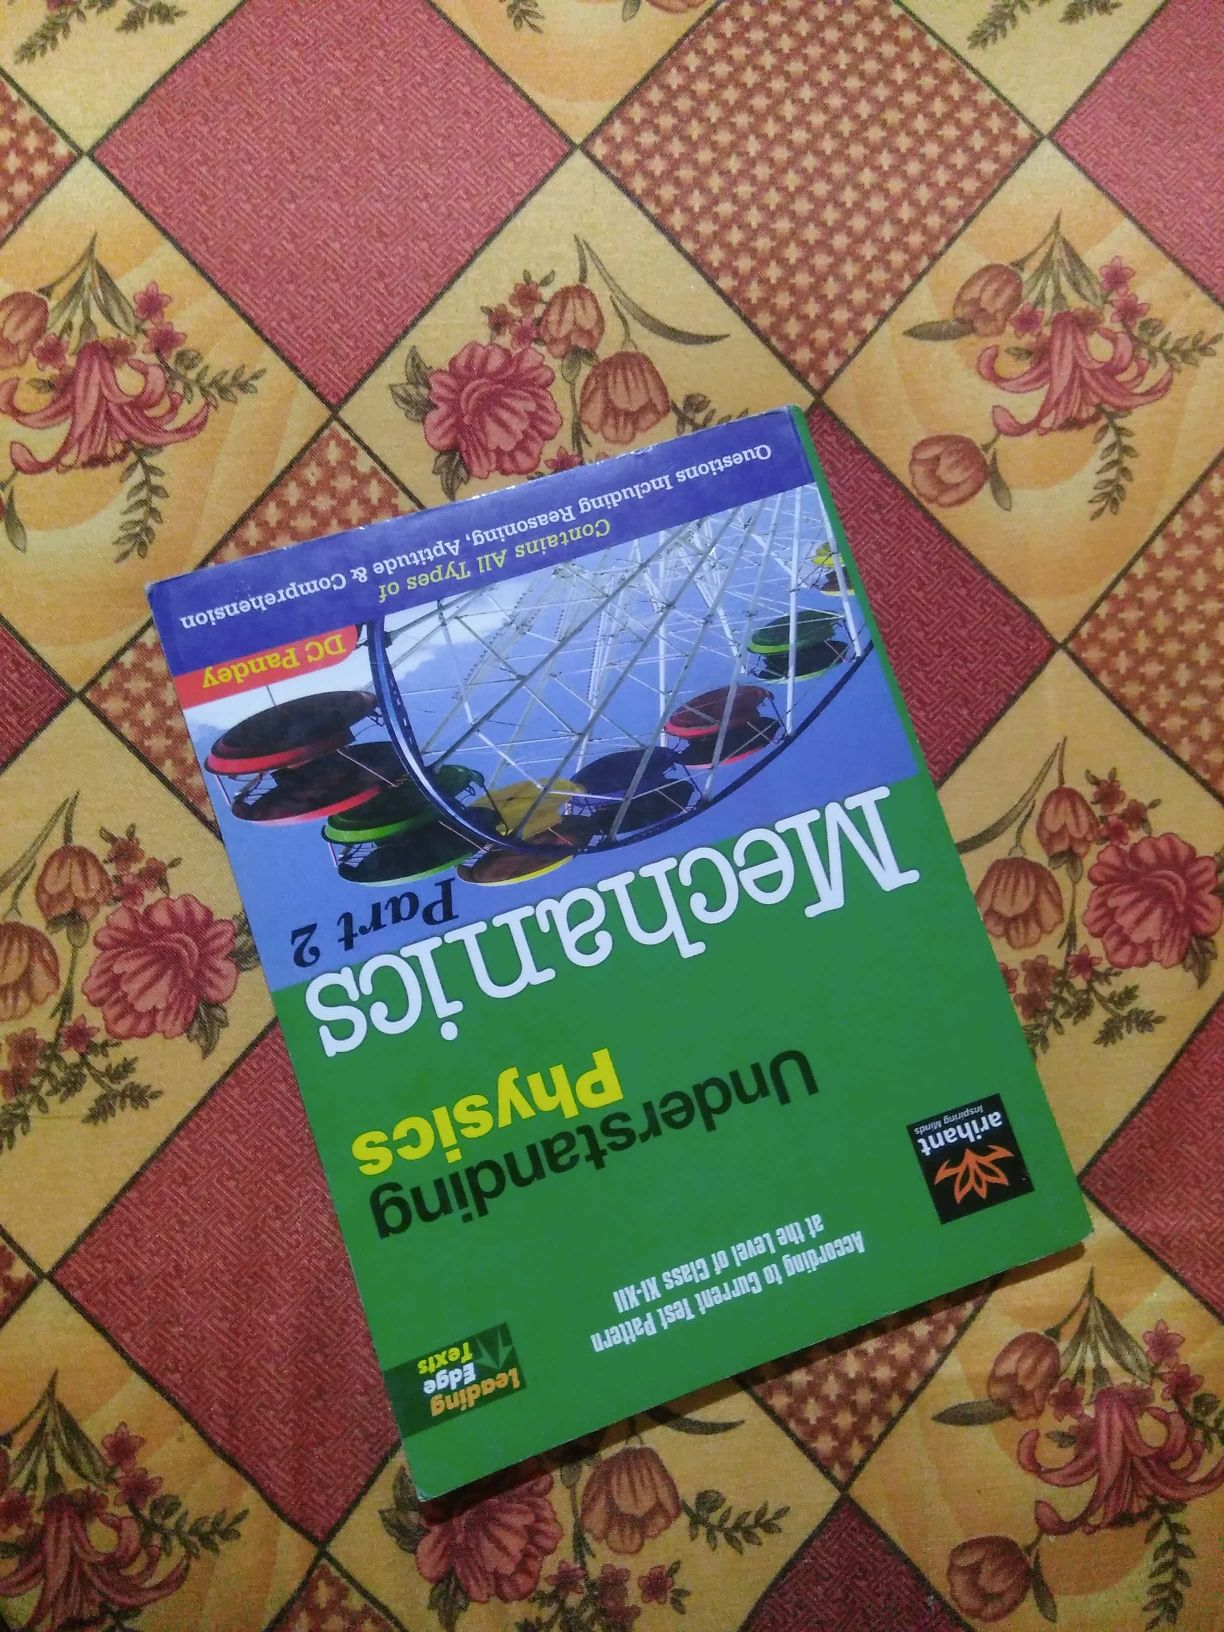mechanics: (111, 457, 1144, 1448)
